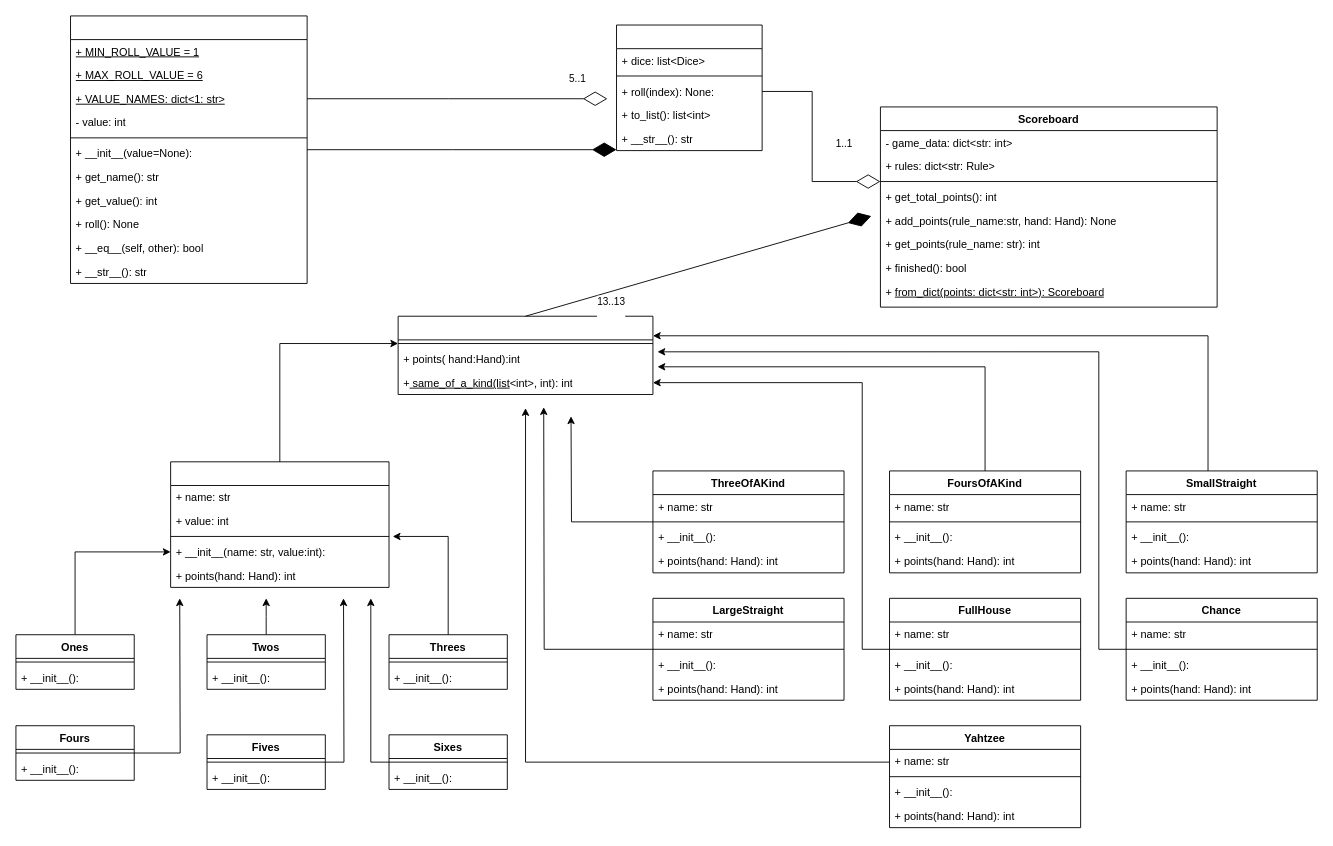
Image size: 1333x846. Some labels were removed from this diagram. Each missing label, with the box of its shape:
Die: (70, 15, 307, 283)
Hand: (616, 24, 762, 151)
Rule: (397, 315, 653, 394)
SameValueRule: (170, 461, 389, 587)
